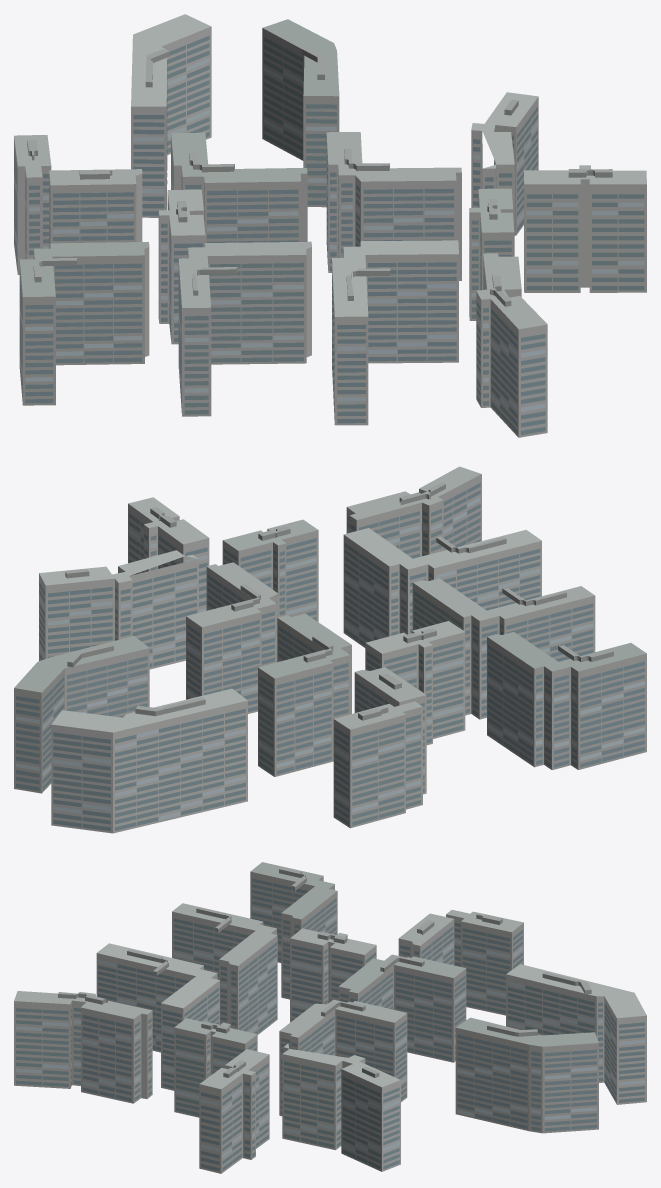
The model's file is apt-a13187305.glb.
The picture shows the model from 3 angles, top to bottom: view 1: azimuth 30°, elevation 25°; view 2: azimuth 150°, elevation 25°; view 3: azimuth 270°, elevation 25°; orthographic projection. The views are drawn at different scales.
Parts seen in each view (by area): view 1: apt-a13187305; view 2: apt-a13187305; view 3: apt-a13187305.
Part boxes in pixels (x1,y1,x2,y2): apt-a13187305: (14, 14, 646, 437); apt-a13187305: (14, 466, 646, 833); apt-a13187305: (14, 862, 646, 1173).
Size of the model in its own units: 231 by 43 by 272.
